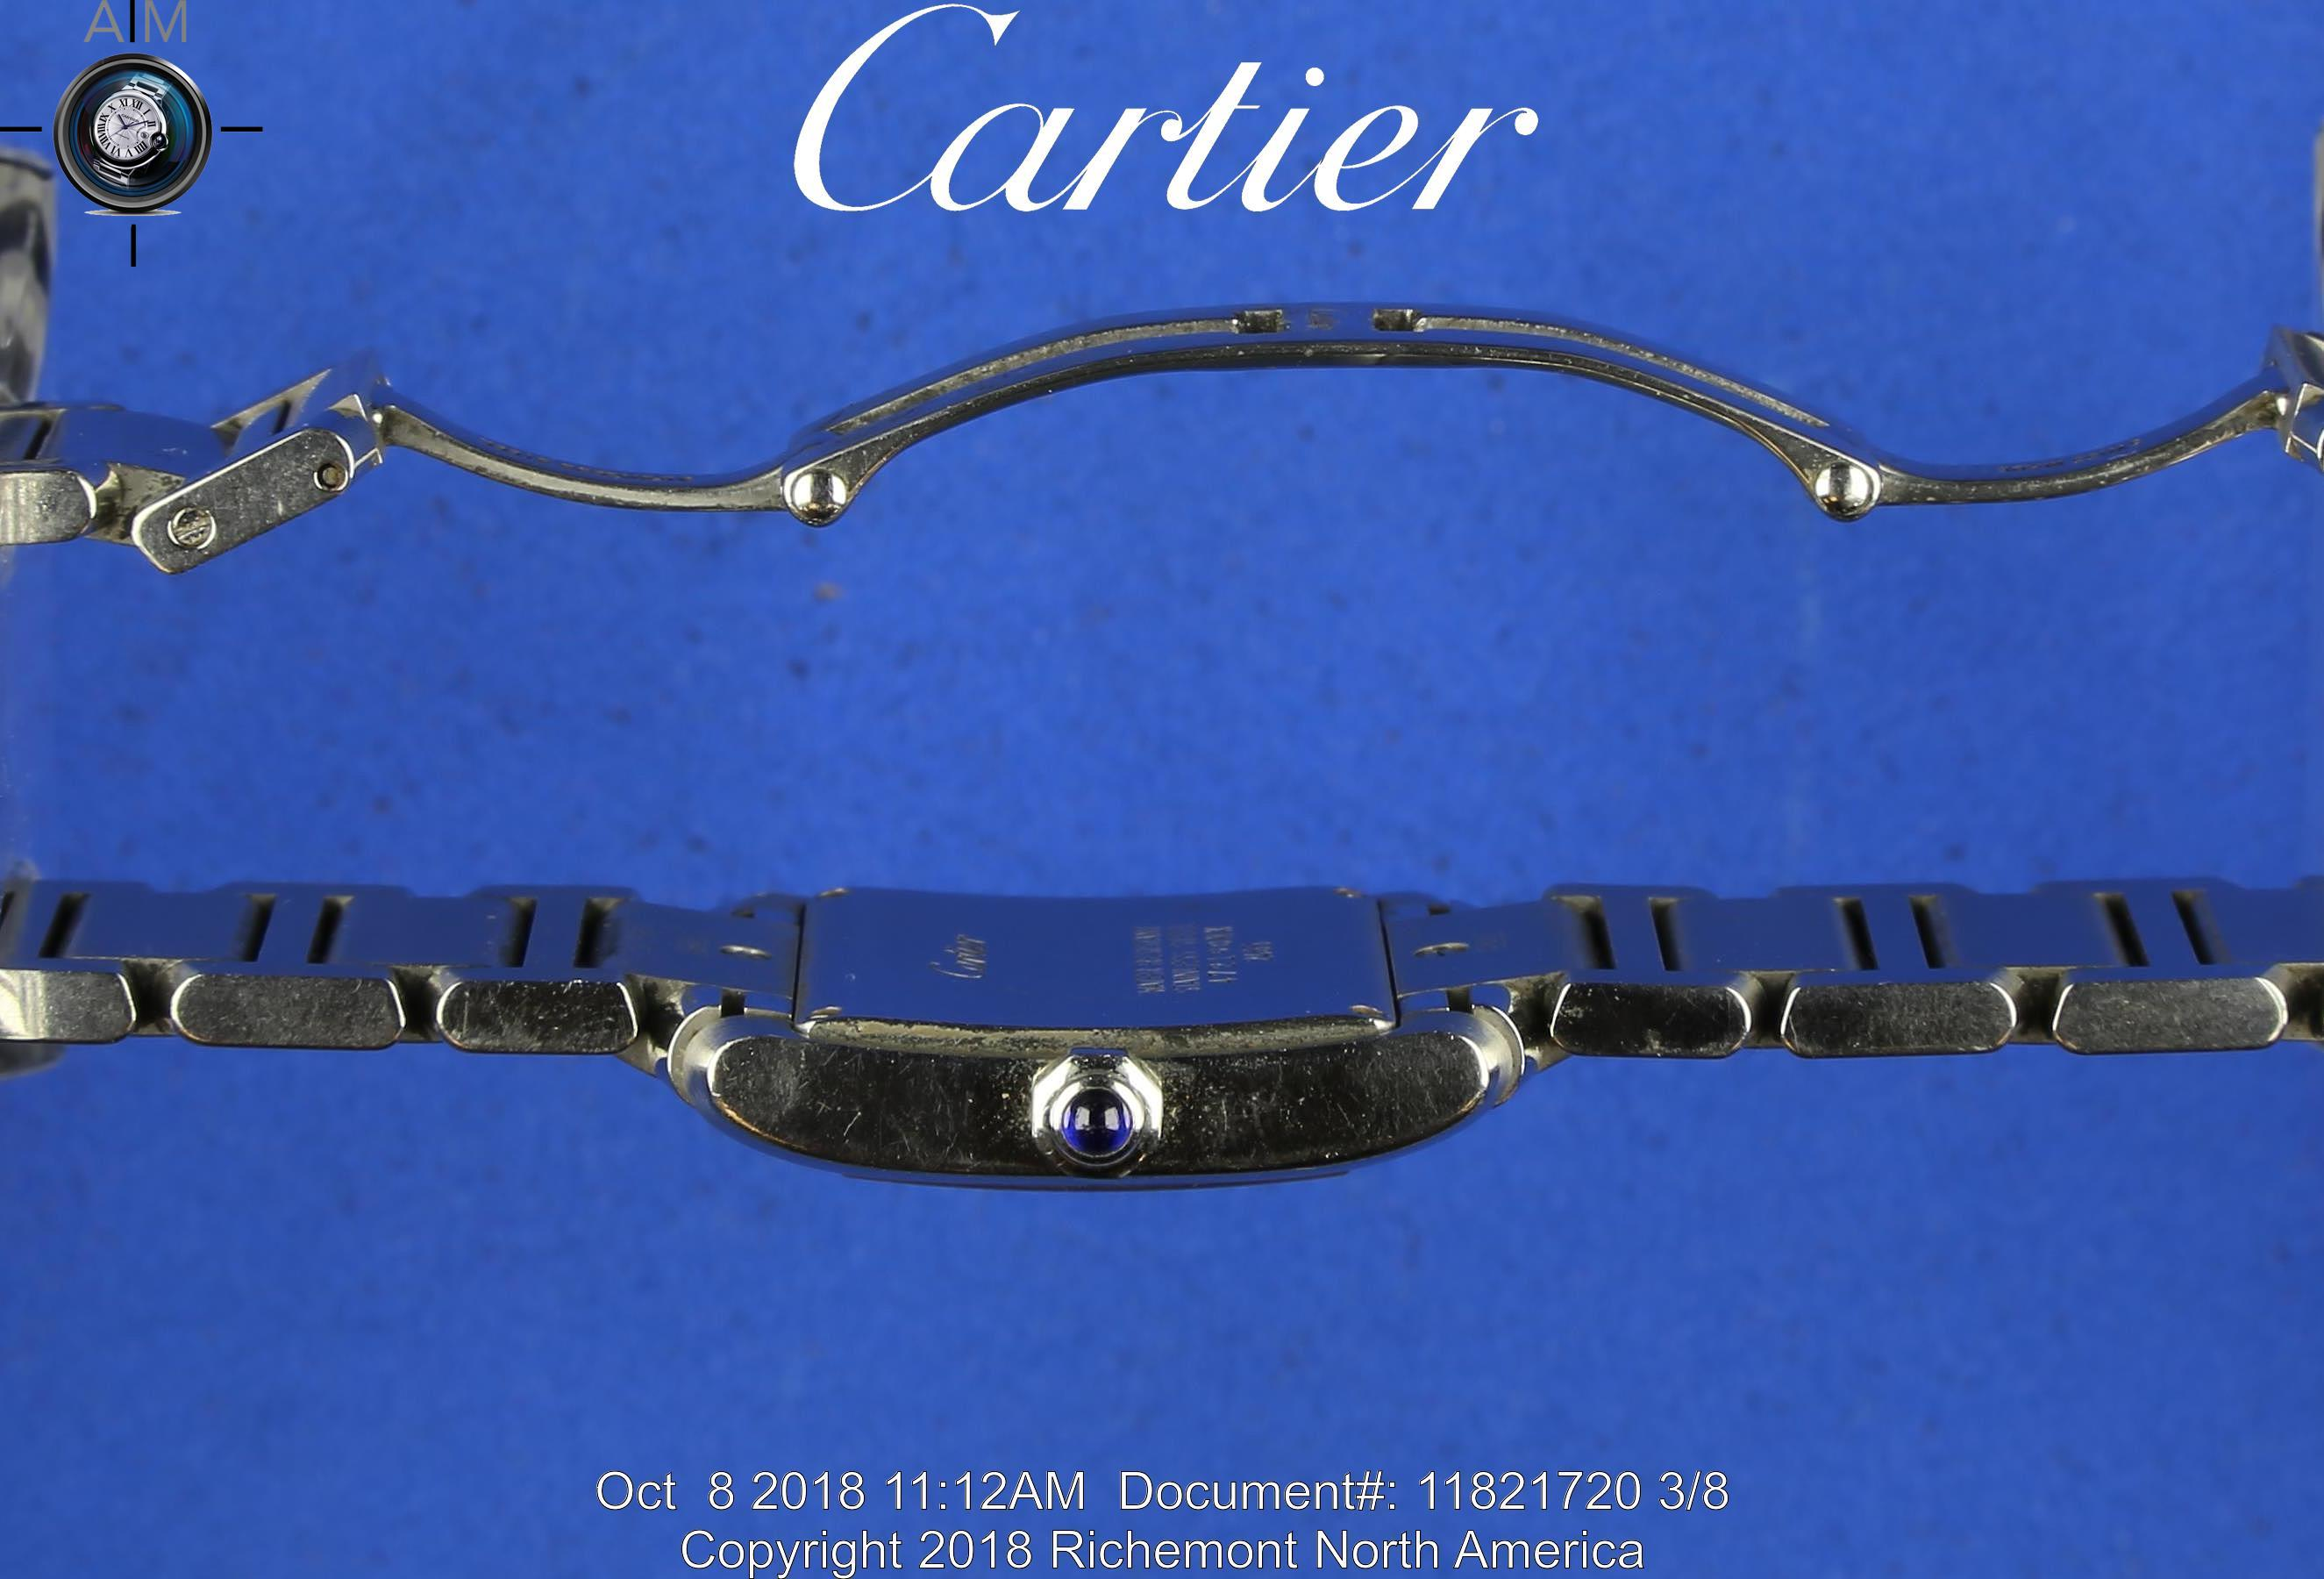watchback: (796, 886, 1392, 1029)
